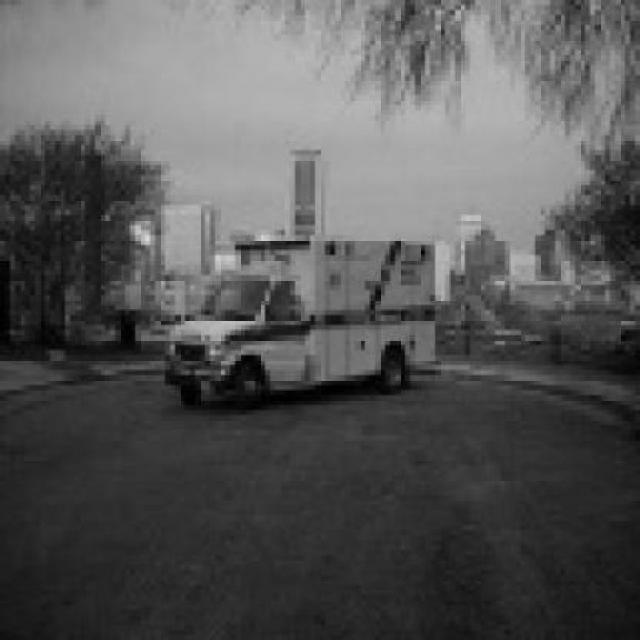Ambulance: (166, 236, 439, 407)
